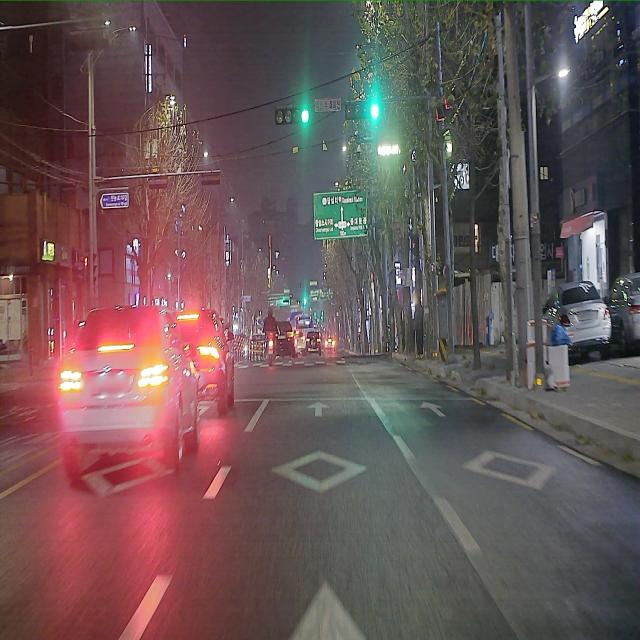Green Light: (274, 104, 310, 126)
